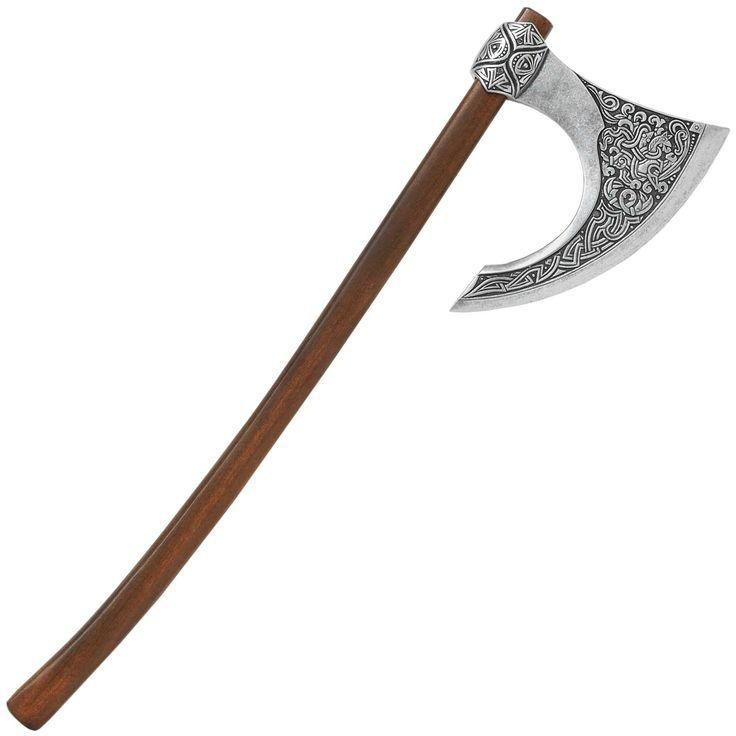foice: (7, 8, 727, 729)
